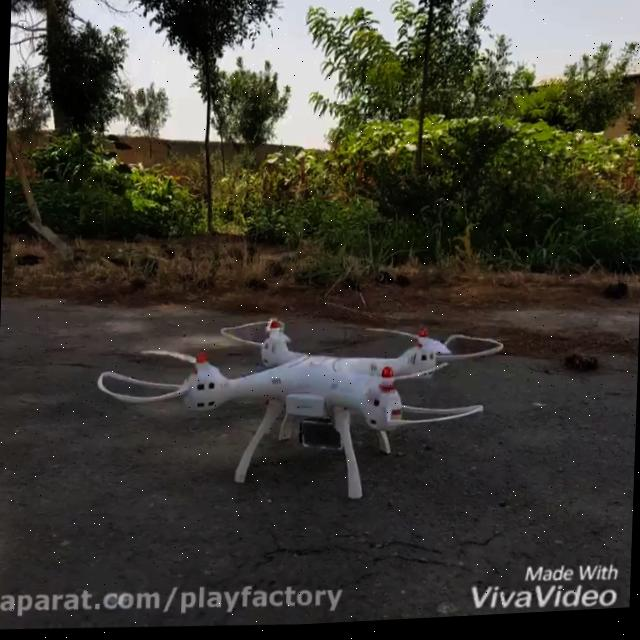drone: (88, 303, 506, 516)
